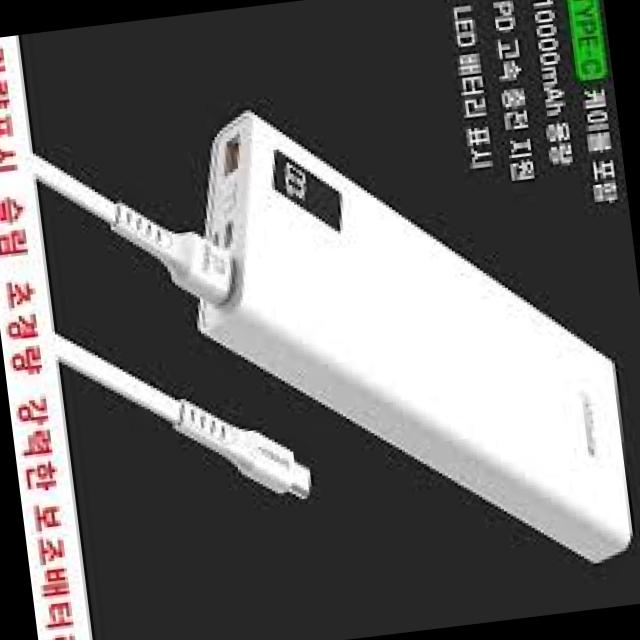portable-charger: (169, 63, 640, 613)
